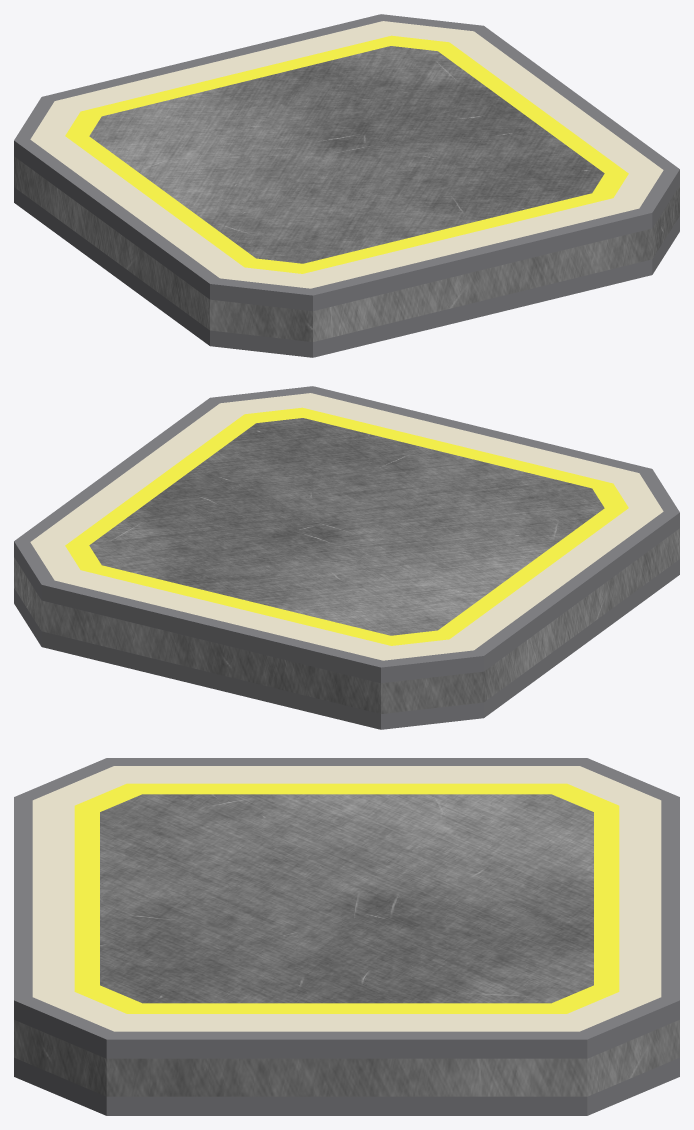
File: elevator.glb
The picture shows the model from 3 angles, top to bottom: view 1: azimuth 30°, elevation 25°; view 2: azimuth 150°, elevation 25°; view 3: azimuth 270°, elevation 25°; orthographic projection. The views are drawn at different scales.
Parts seen in each view (by area): view 1: Plane.029; view 2: Plane.029; view 3: Plane.029.
Boxes of the visible parts, bbox=[...] form: Plane.029: bbox=[14, 14, 679, 357]; Plane.029: bbox=[14, 386, 679, 729]; Plane.029: bbox=[14, 758, 679, 1115].
Size of what is drawn, in the model's own units: 1.73 by 0.2185 by 1.73.
Materials: 3 (3 with a texture image).
